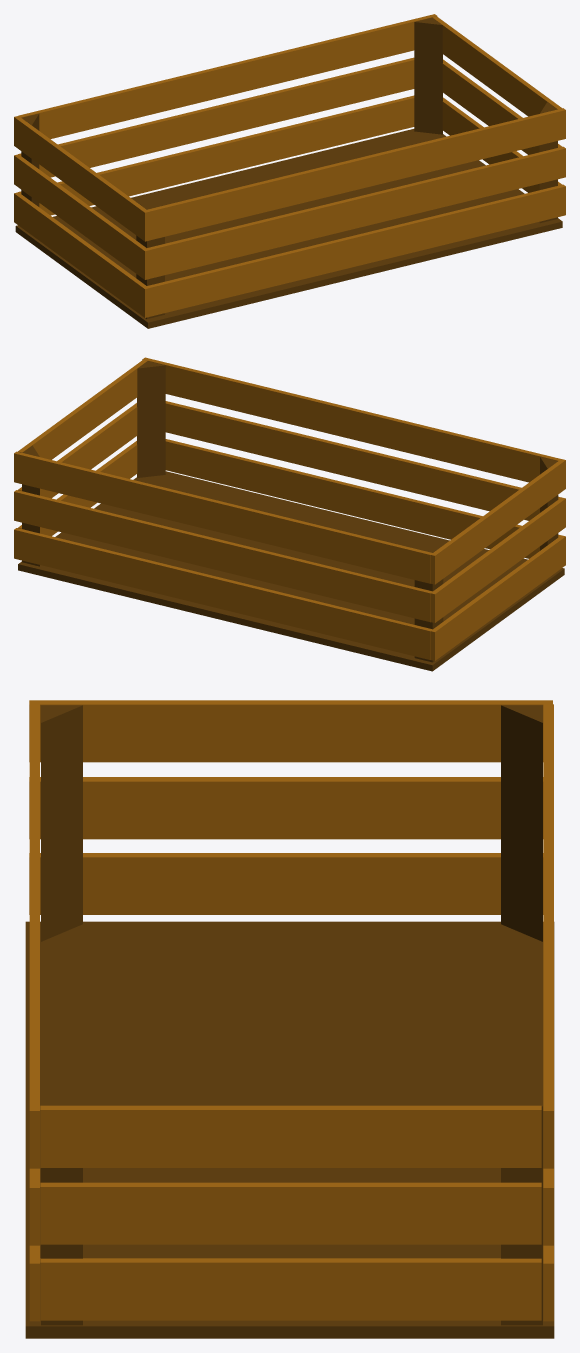
The picture shows the model from 3 angles, top to bottom: view 1: azimuth 30°, elevation 25°; view 2: azimuth 150°, elevation 25°; view 3: azimuth 270°, elevation 25°; orthographic projection. The views are drawn at different scales.
Parts seen in each view (by area): view 1: Cube.146, Cube.151, Cube.149, Cube.150, Cube.148, Cube.147, Cube.121, Cube.153, Cube.154, Cube.152, Cube.157, Cube.159 (+4 smaller); view 2: Cube.146, Cube.148, Cube.147, Cube.121, Cube.151, Cube.150, Cube.149, Cube.152, Cube.154, Cube.153, Cube.157, Cube.161 (+4 smaller); view 3: Cube.146, Cube.155, Cube.156, Cube.157, Cube.154, Cube.153, Cube.152, Cube.158, Cube.160, Cube.148, Cube.151, Cube.159 (+5 smaller).
Boxes of the visible parts, <box> form: Cube.146: <box>15,129,562,328</box>; Cube.151: <box>146,108,565,240</box>; Cube.149: <box>147,184,565,316</box>; Cube.150: <box>147,146,565,278</box>; Cube.148: <box>18,14,437,138</box>; Cube.147: <box>18,57,414,177</box>; Cube.121: <box>18,95,414,215</box>; Cube.153: <box>14,154,149,279</box>; Cube.154: <box>14,116,149,241</box>; Cube.152: <box>14,192,149,317</box>; Cube.157: <box>432,16,561,116</box>; Cube.159: <box>414,17,442,134</box>; Cube.146: <box>18,471,564,671</box>; Cube.148: <box>14,451,432,583</box>; Cube.147: <box>14,490,432,622</box>; Cube.121: <box>14,528,432,659</box>; Cube.151: <box>142,357,560,482</box>; Cube.150: <box>165,401,560,520</box>; Cube.149: <box>165,439,561,558</box>; Cube.152: <box>431,535,565,660</box>; Cube.154: <box>431,459,565,584</box>; Cube.153: <box>431,497,565,622</box>; Cube.157: <box>18,359,147,459</box>; Cube.161: <box>137,361,165,477</box>; Cube.146: <box>25,921,554,1338</box>; Cube.155: <box>40,1258,541,1320</box>; Cube.156: <box>40,1182,541,1244</box>; Cube.157: <box>40,1105,541,1167</box>; Cube.154: <box>29,700,552,762</box>; Cube.153: <box>29,777,543,839</box>; Cube.152: <box>29,853,543,914</box>; Cube.158: <box>501,705,542,941</box>; Cube.160: <box>41,705,82,941</box>; Cube.148: <box>543,704,553,1168</box>; Cube.151: <box>29,704,39,1168</box>; Cube.159: <box>501,1088,542,1325</box>.
Size of the model in its own units: 692 by 182 by 377.
